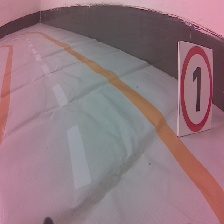limit: (175, 38, 215, 140)
